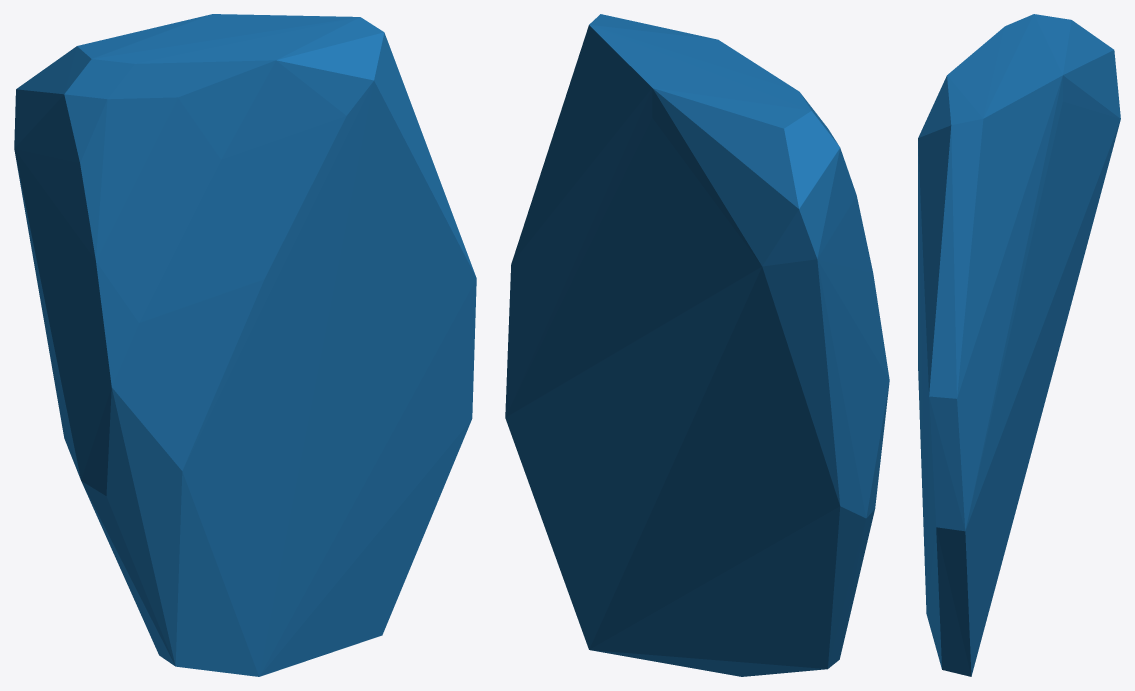
The model's file is mouth_cup010.obj.
3 renders of one model, left to right at view 1: azimuth 30°, elevation 25°; view 2: azimuth 150°, elevation 25°; view 3: azimuth 270°, elevation 25°, orthographic. The views are drawn at different scales.
Visible parts, largest first — view 1: mouth_cup010_mouth_cup010.001; view 2: mouth_cup010_mouth_cup010.001; view 3: mouth_cup010_mouth_cup010.001.
Part boxes in pixels (x1,y1,x2,y2): mouth_cup010_mouth_cup010.001: [14, 14, 476, 676]; mouth_cup010_mouth_cup010.001: [505, 14, 889, 676]; mouth_cup010_mouth_cup010.001: [918, 14, 1120, 676].
Size of the model in its own units: 0.1285 by 0.1997 by 0.0661.
